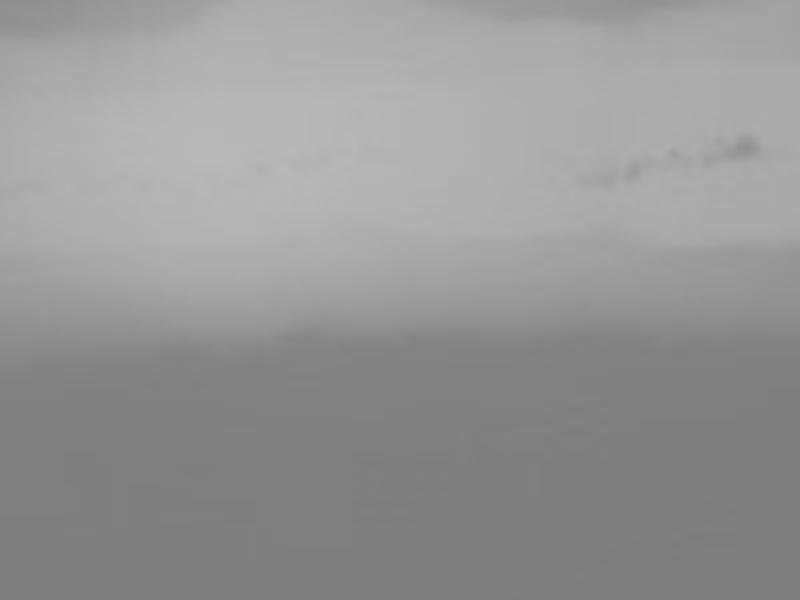defect: (727, 137, 762, 164), (660, 144, 692, 173), (578, 165, 617, 186), (620, 154, 644, 182), (709, 126, 726, 145), (698, 151, 717, 166)
